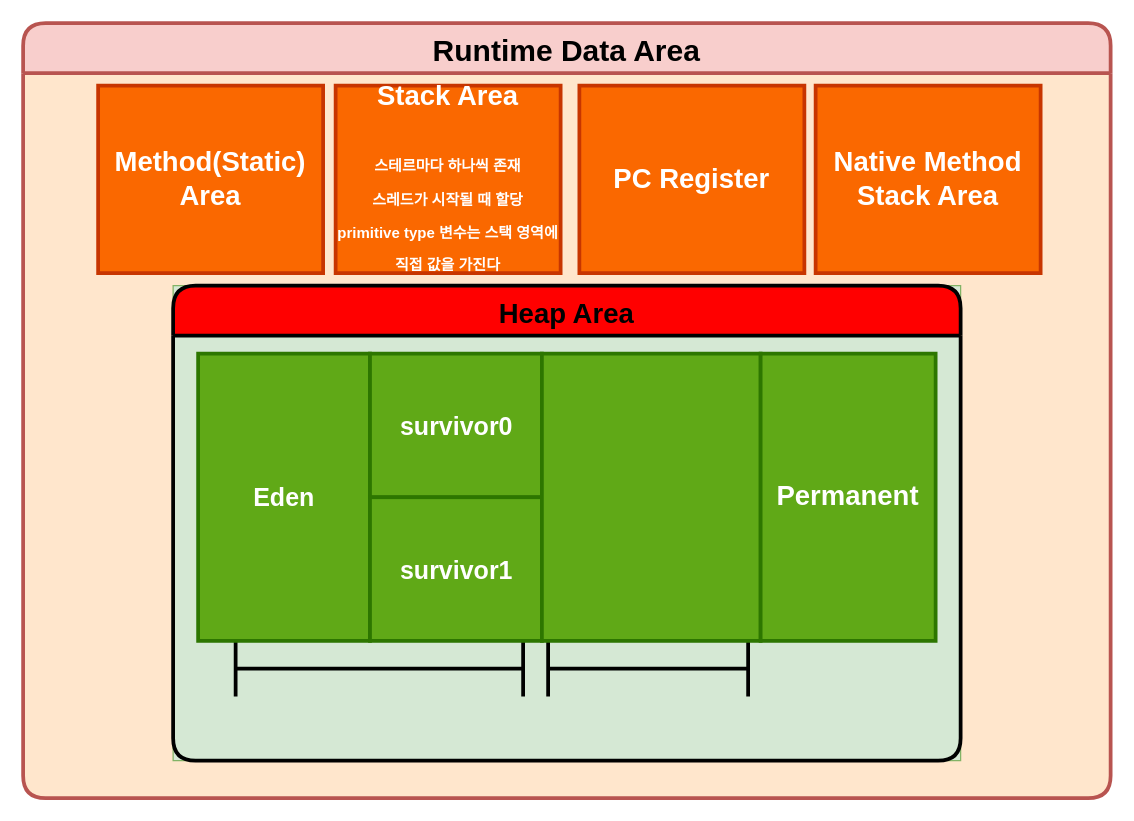
Image size: 1134x821. Some labels were removed from this diagram. The box of each missing label's shape, as (x1, y1, x2, y2) in pixels:
O ld: (539, 351, 762, 642)
Tenured Generation (major GC): (546, 638, 749, 698)
Young Generation (minor GC): (233, 638, 524, 698)
